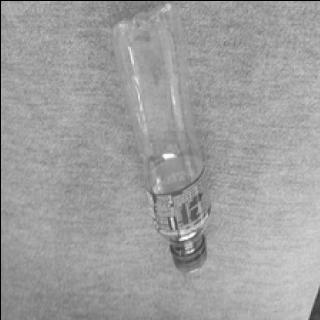plastic_bottles: (110, 0, 211, 275)
